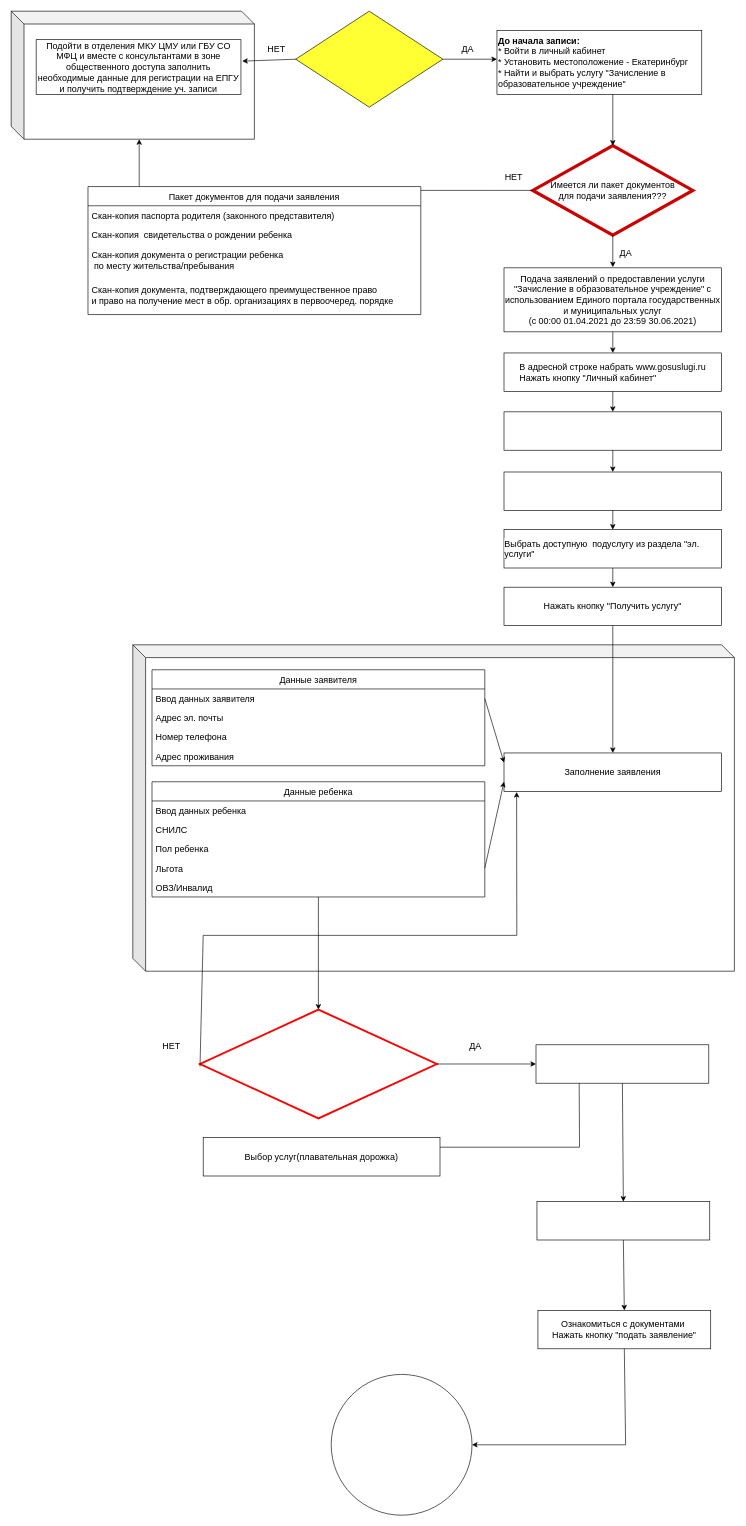
Image size: 746x1526. Some labels were removed from this diagram. Each missing label, with the centre of its shape:
В каталоге госуслуг выбрать раздел "Образование ": (612,430)
Выбор ОУ: (622,1063)
Выбрать услугу "запись в школу ": (612,490)
Ожидание уведомлений об успешном принятии на эл. почте либо портале Гос. Услуг: (401,1444)
Ребенку требуется адаптированная обр. программа?: (318,1063)
У родителя есть регистрация ЕПГУ? (уч.запись): (369,59)
чекбокс/отметка "о согласии": (623,1220)
